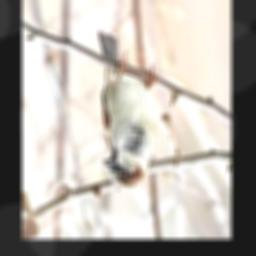Sparrow: (98, 32, 158, 190)
